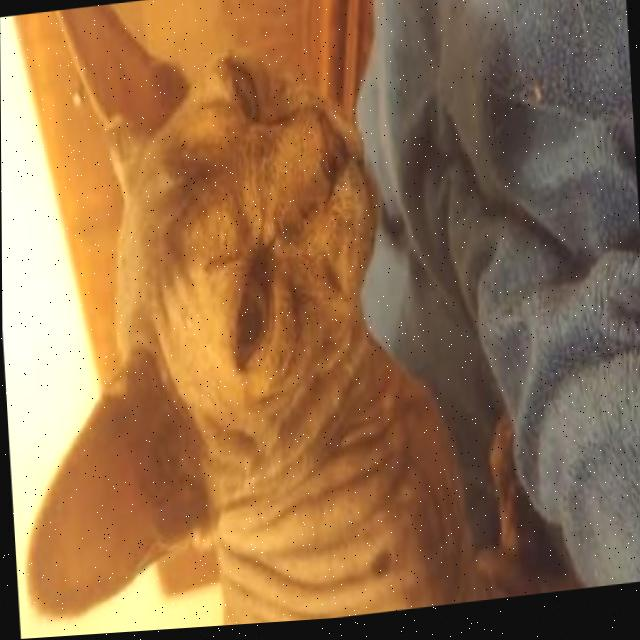Sphynx: (0, 0, 596, 640)
